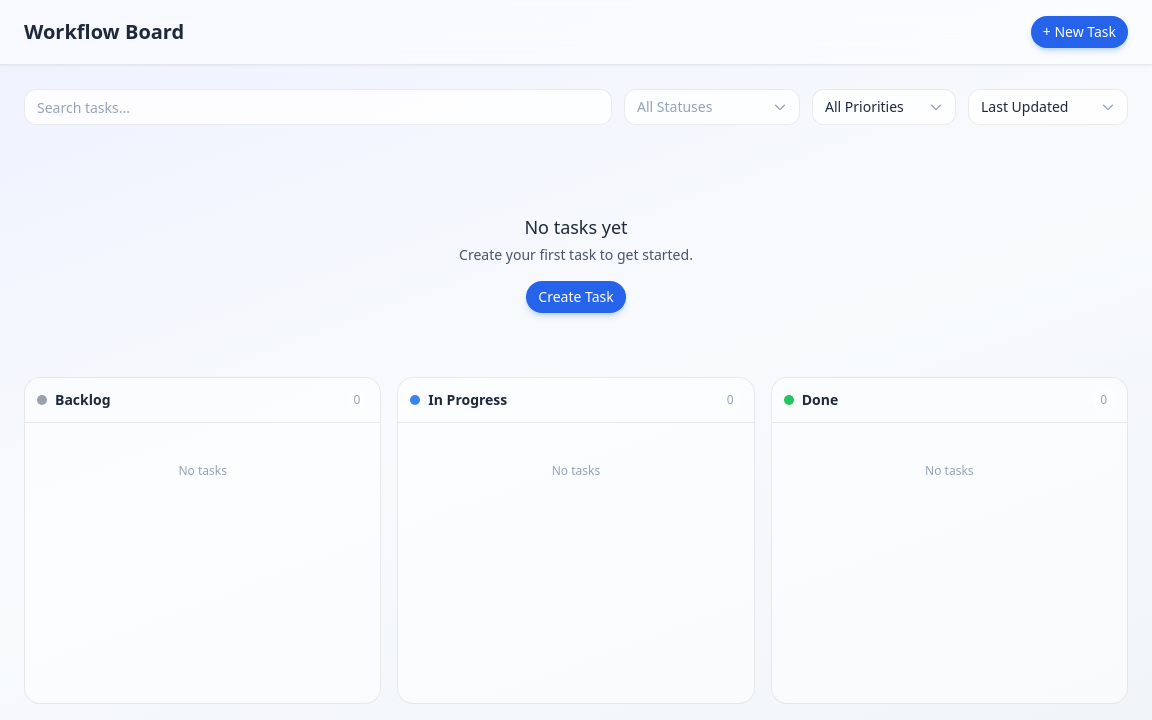
Scenario: Board workflow › creates a task and shows it on the board
Click the button "+ New Task": [1079, 32] box left=1031, top=16, right=1128, bottom=48
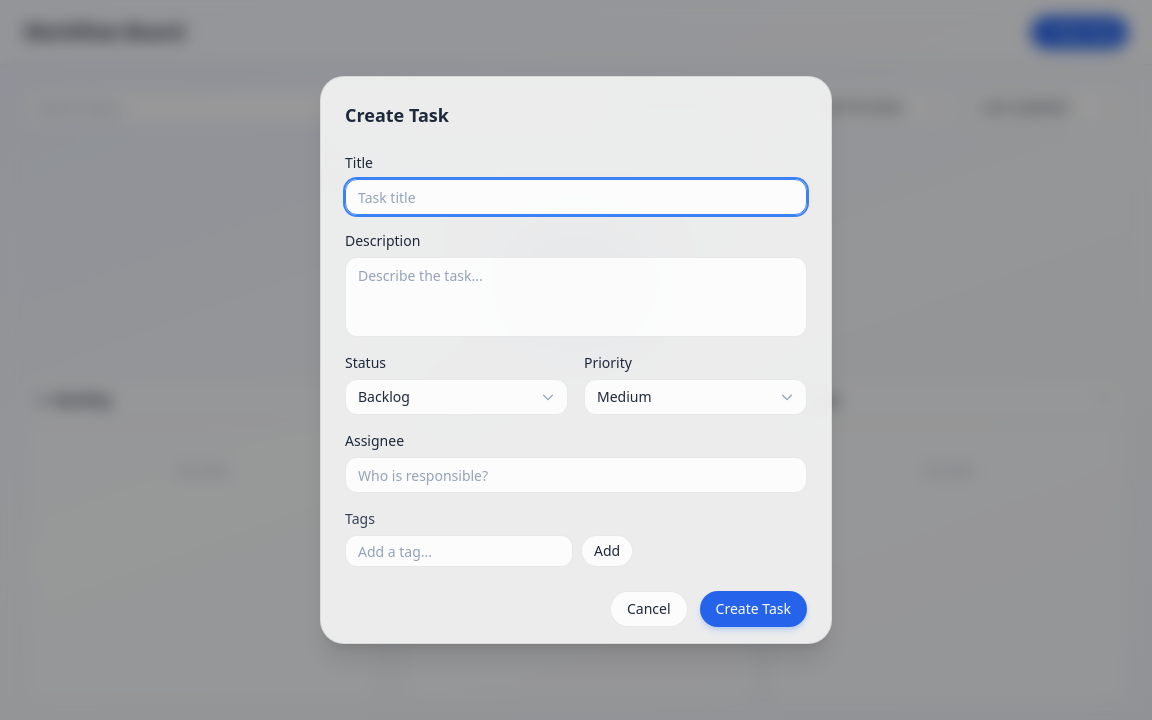
In the field labelled "Title": [576, 197] box left=345, top=179, right=807, bottom=215, type "My first task"
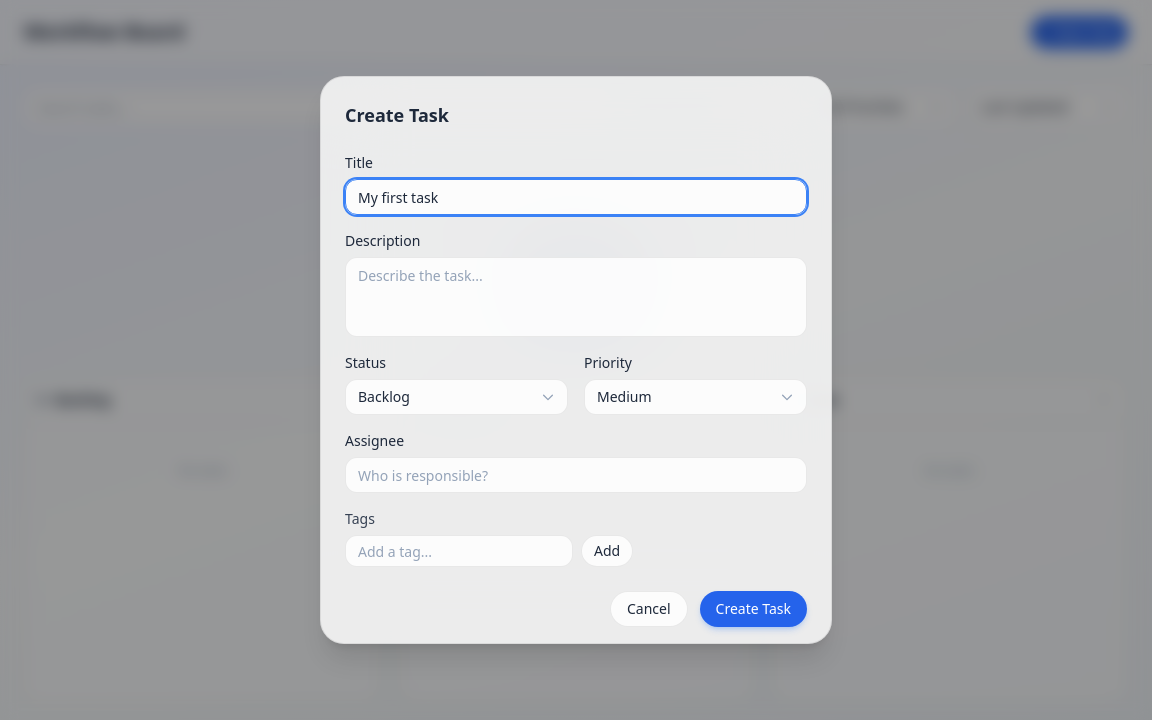
In the text box labelled "Description": [576, 297] box left=345, top=257, right=807, bottom=337, type "Some description"
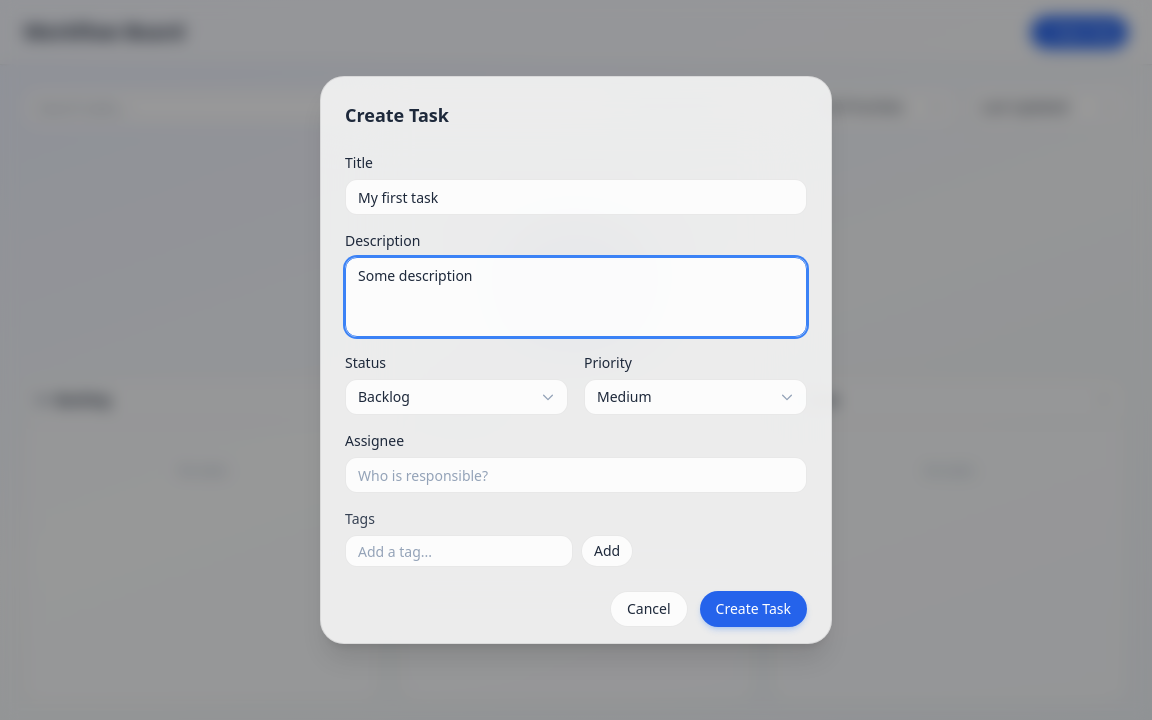
Click the button "Create Task": [753, 609] box left=700, top=591, right=807, bottom=627
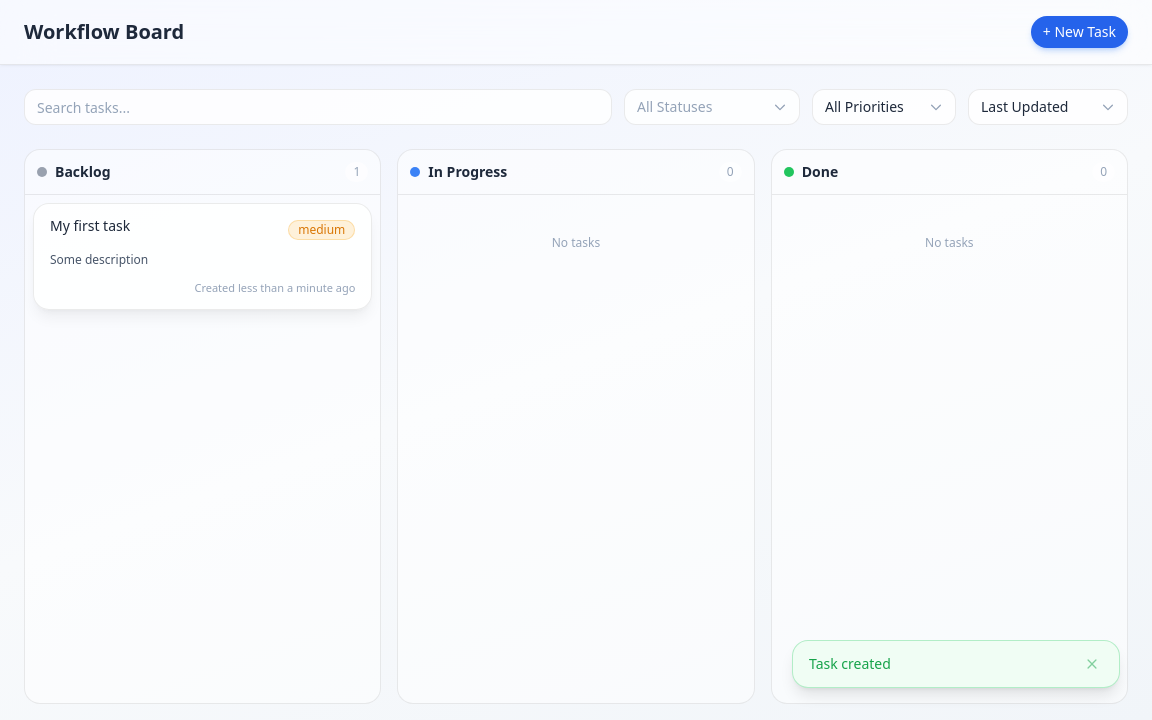
Result: the heading "My first task" is shown at left=50, top=216, right=130, bottom=236
